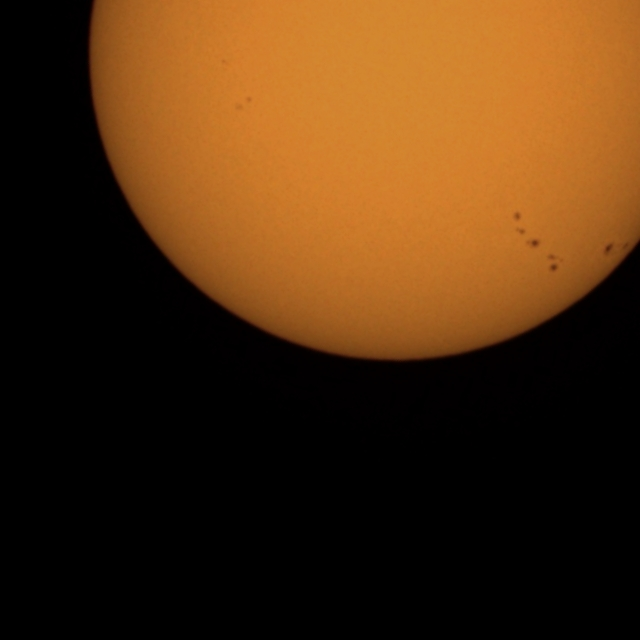sunspot: (512, 209, 540, 252), (603, 240, 630, 258), (511, 209, 526, 237), (546, 252, 564, 274), (234, 95, 253, 112), (602, 241, 616, 258), (524, 237, 542, 250)
